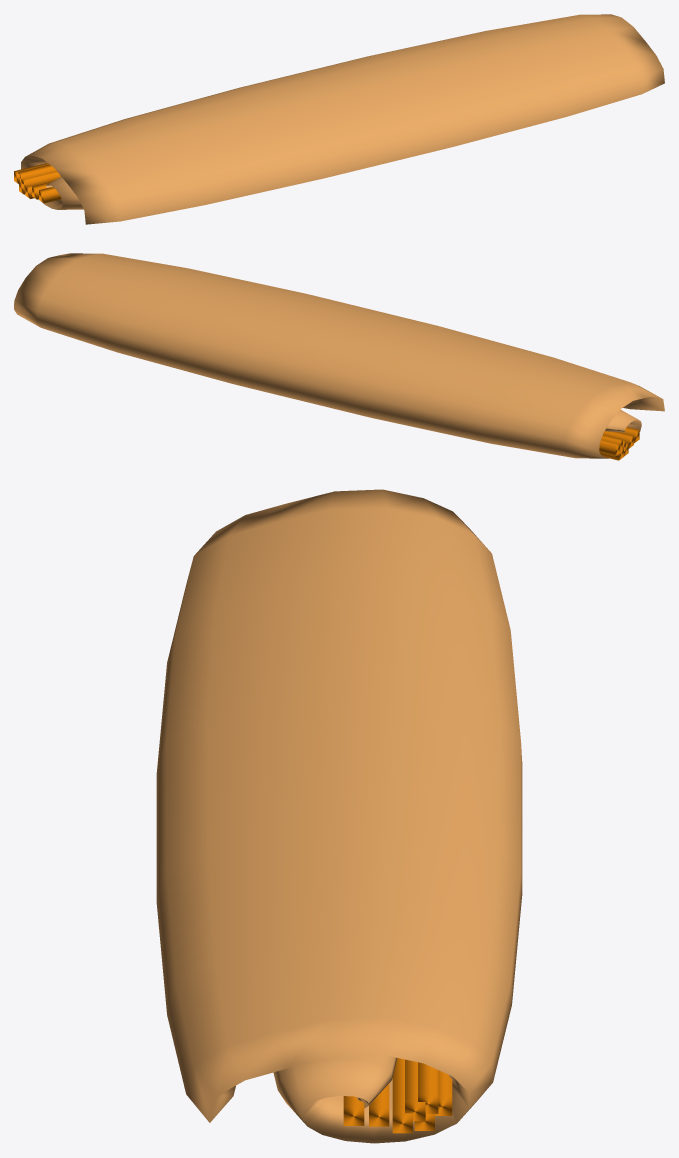
Rendered from 春巻き.fbx.
The picture shows the model from 3 angles, top to bottom: view 1: azimuth 30°, elevation 25°; view 2: azimuth 150°, elevation 25°; view 3: azimuth 270°, elevation 25°; orthographic projection. The views are drawn at different scales.
Visible parts, largest first — view 1: 平面, 立方体; view 2: 平面, 立方体; view 3: 平面, 立方体.
Part boxes in pixels (bbox=[...]): 平面: bbox=[21, 14, 664, 224]; 立方体: bbox=[14, 163, 61, 203]; 平面: bbox=[14, 253, 664, 458]; 立方体: bbox=[599, 427, 639, 460]; 平面: bbox=[156, 489, 522, 1143]; 立方体: bbox=[343, 1058, 452, 1133].
Size of the model in its own units: 1238 by 132 by 332.
